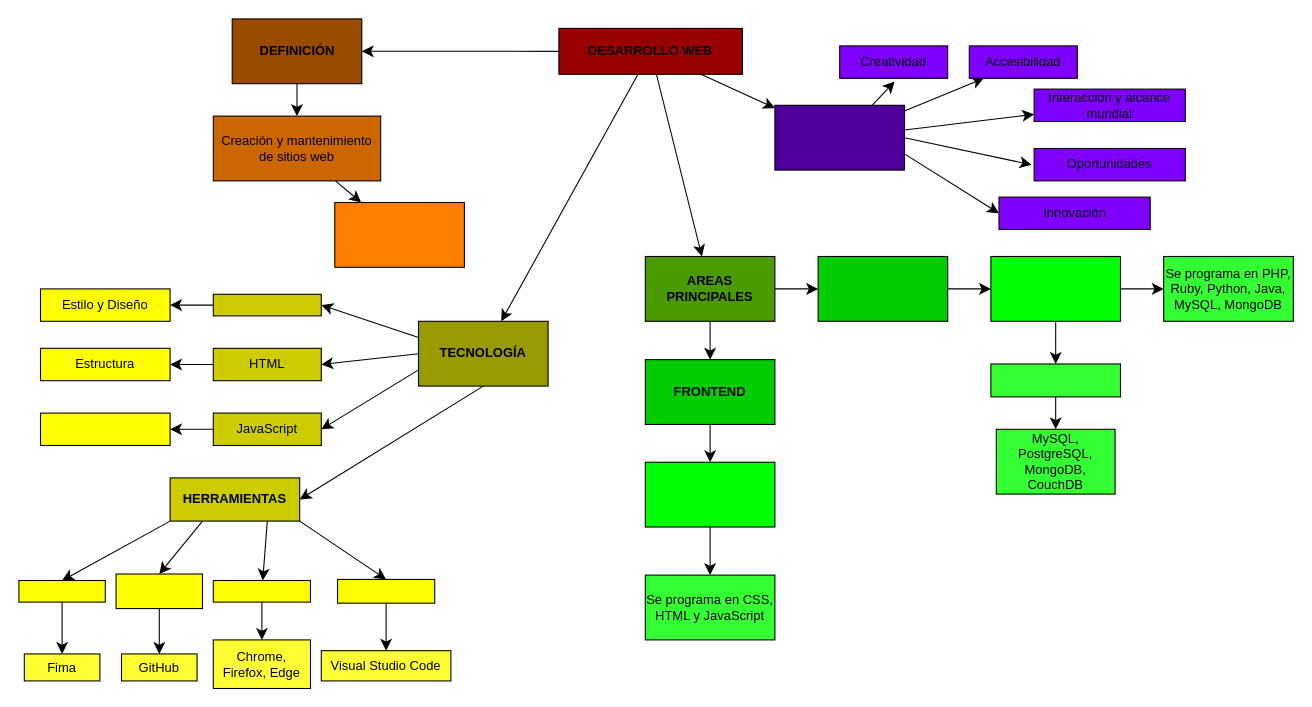
Image size: 1312x707. Some labels were removed from this diagram. Each missing label, with the centre of its shape:
-Programación -Diseño -Contenido -Seguridad de Red: pixel 399 234
BACKEND: pixel 882 288
Bases de Datos: pixel 1055 380
Control de versiones: pixel 158 591
CSS: pixel 266 304
Diseño: pixel 61 590
Editor de texto: pixel 385 590
IMPORTANCIA: pixel 839 137
Interactividad: pixel 104 429
Interactua con el usuario: pixel 709 494
Navegadores: pixel 261 590
Servidores y Bases de Datos: pixel 1055 288
